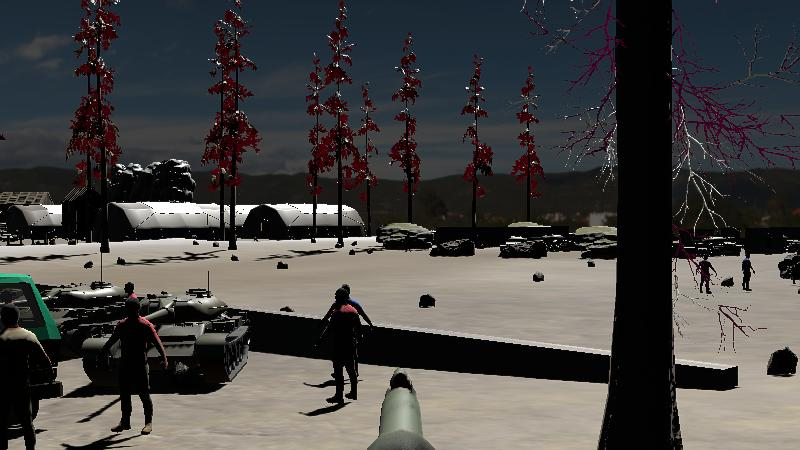Human: (85, 292, 172, 404), (113, 291, 171, 437), (0, 305, 58, 450), (314, 279, 376, 405), (740, 251, 756, 293)
Tank: (79, 287, 251, 389), (32, 279, 167, 351), (498, 234, 550, 260)
car: (0, 271, 64, 396)
